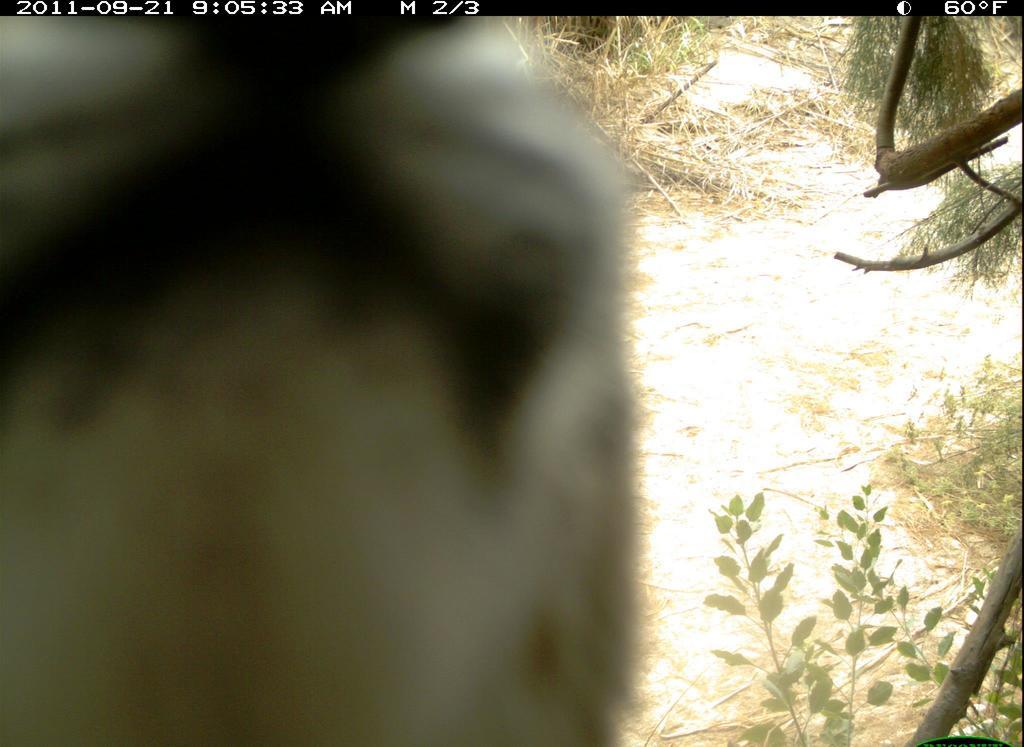bobcat: (11, 4, 698, 747)
